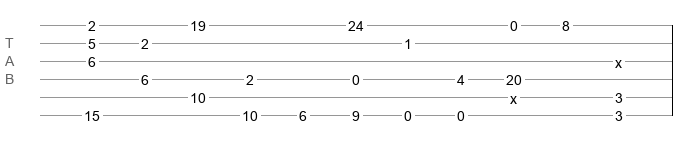0: (352, 72, 360, 82), (404, 108, 412, 118), (457, 108, 465, 118), (510, 18, 518, 28)
1: (404, 36, 412, 46)
10: (190, 90, 206, 100), (242, 108, 258, 118)
15: (84, 108, 100, 118)
19: (190, 18, 206, 28)
2: (88, 18, 96, 28), (141, 36, 149, 46), (246, 72, 254, 82)
20: (506, 72, 522, 82)
24: (348, 18, 364, 28)
3: (615, 108, 623, 118), (615, 90, 623, 100)
4: (457, 72, 465, 82)
5: (88, 36, 96, 46)
6: (88, 54, 96, 64), (141, 72, 149, 82), (299, 108, 307, 118)
8: (562, 18, 570, 28)
9: (352, 108, 360, 118)
x: (510, 91, 517, 99), (615, 55, 622, 63)
